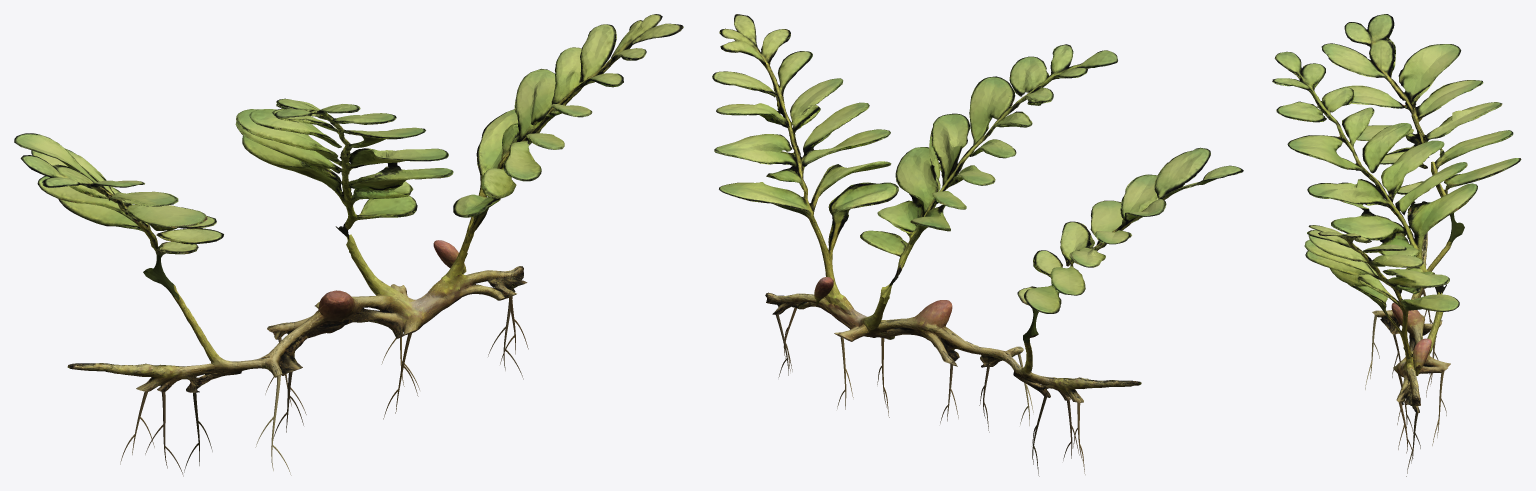
The picture shows the model from 3 angles, left to right: view 1: azimuth 30°, elevation 25°; view 2: azimuth 150°, elevation 25°; view 3: azimuth 270°, elevation 25°; orthographic projection. The views are drawn at different scales.
Visible parts, largest first — view 1: world; view 2: world; view 3: world.
Boxes of the visible parts, left/top/right/bottom form: world: left=14, top=14, right=683, bottom=476; world: left=712, top=14, right=1243, bottom=476; world: left=1272, top=14, right=1521, bottom=476.
Bounding box in the file's own units: 0.9984 × 0.6582 × 0.4553.
1 material, 1 textured.
